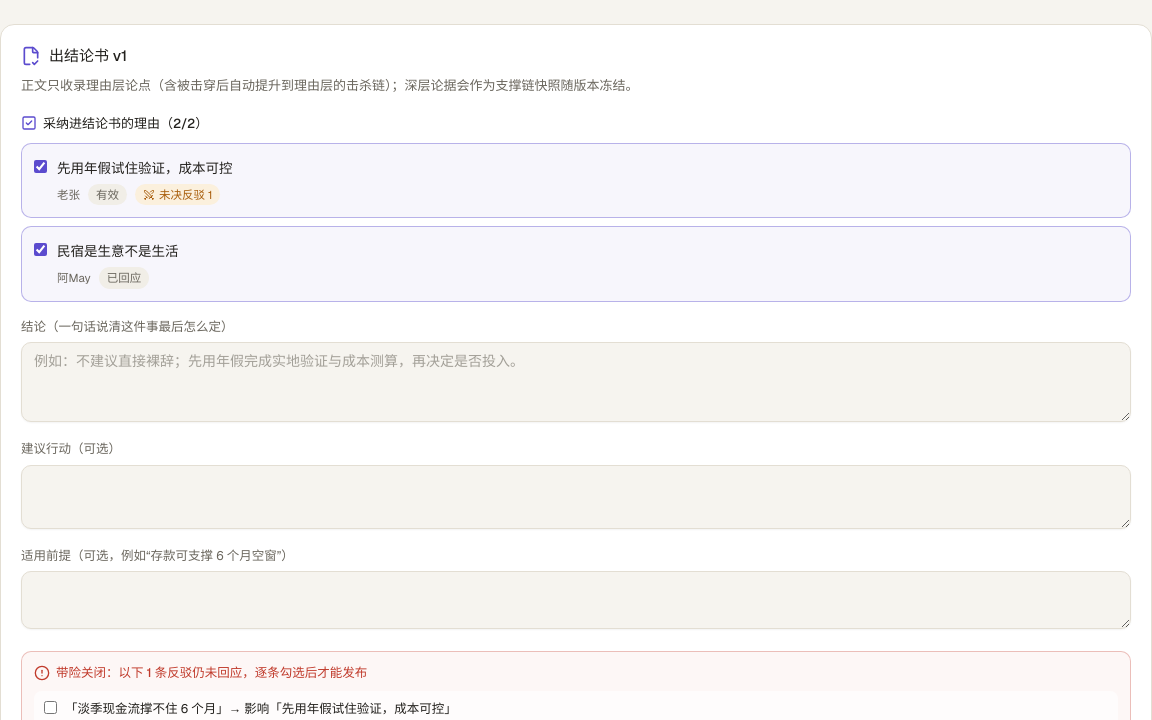
出结论书向导（M4：采纳 + 带险关闭勾选） › 全部取消采纳时给出提示并禁用发布
Click the checkbox named "adoptedClaimId".
click(40, 166)  # box [34,160,47,173]
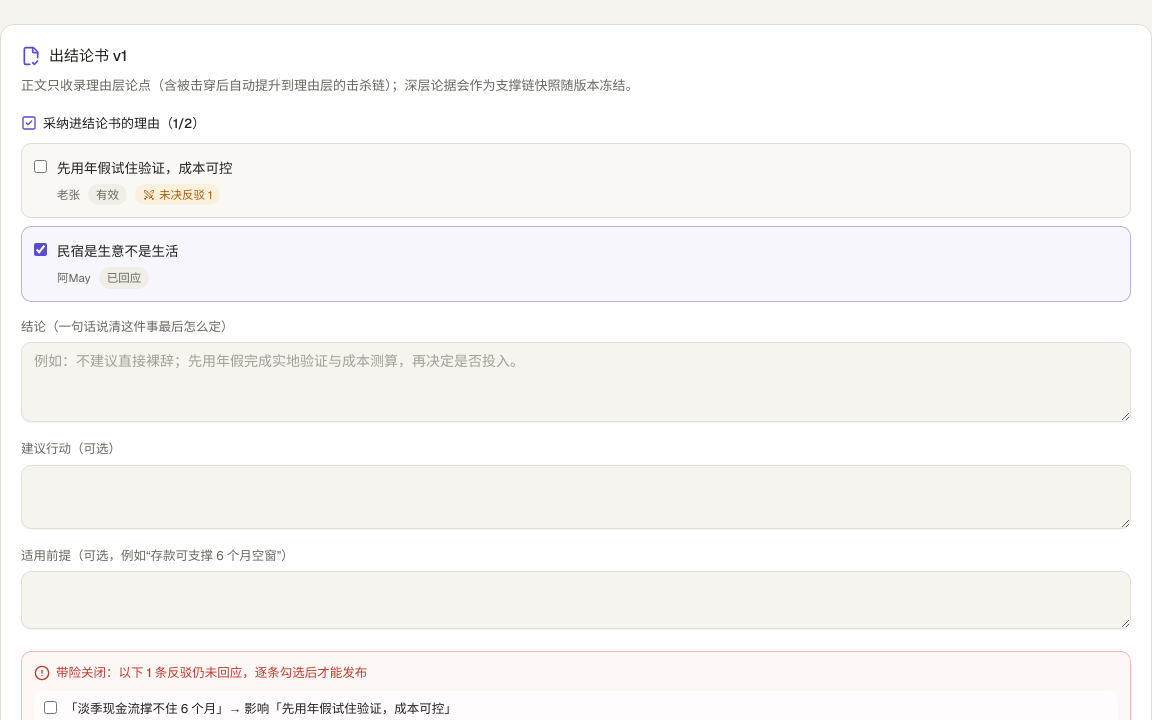
Click the checkbox named "adoptedClaimId".
click(40, 250)  # box [34,243,47,256]
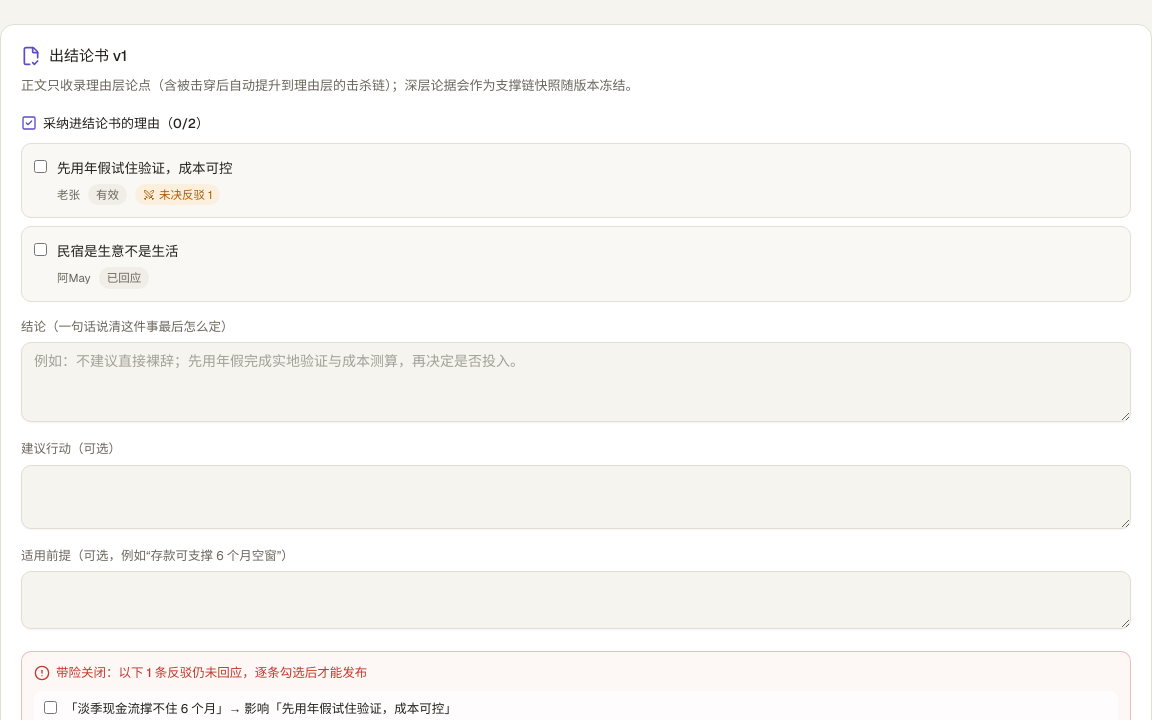
expect the text "采纳进结论书的理由（0/2）" is shown: met, box [21,114,209,133]
